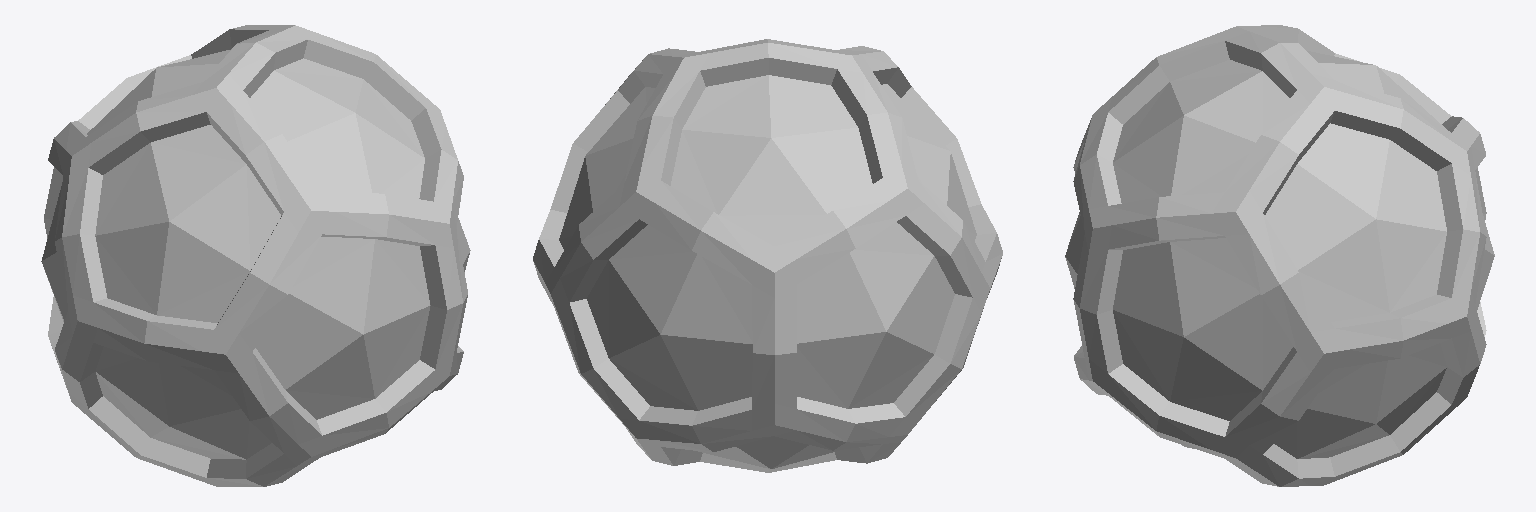
File: Orb.obj
3 renders of one model, left to right at view 1: azimuth 30°, elevation 25°; view 2: azimuth 150°, elevation 25°; view 3: azimuth 270°, elevation 25°, orthographic.
Visible parts, largest first — view 1: pPlatonic3; view 2: pPlatonic3; view 3: pPlatonic3.
Boxes of the visible parts, box(x1,y1,x2,y2) form: pPlatonic3: box(41, 25, 470, 486); pPlatonic3: box(533, 39, 1002, 472); pPlatonic3: box(1065, 25, 1494, 486).
Size of the model in its own units: 1.96 by 2 by 1.83.